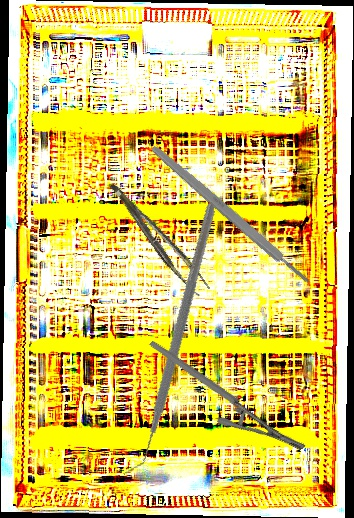Chopper: (55, 203, 281, 475)
Needle Holder: (147, 303, 308, 487)
Scalpel Handle: (149, 143, 312, 287)
Tissue Forceps: (109, 172, 211, 303)
